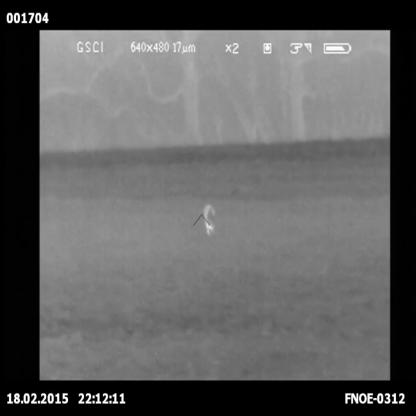rehkitze: (201, 203, 218, 241)
